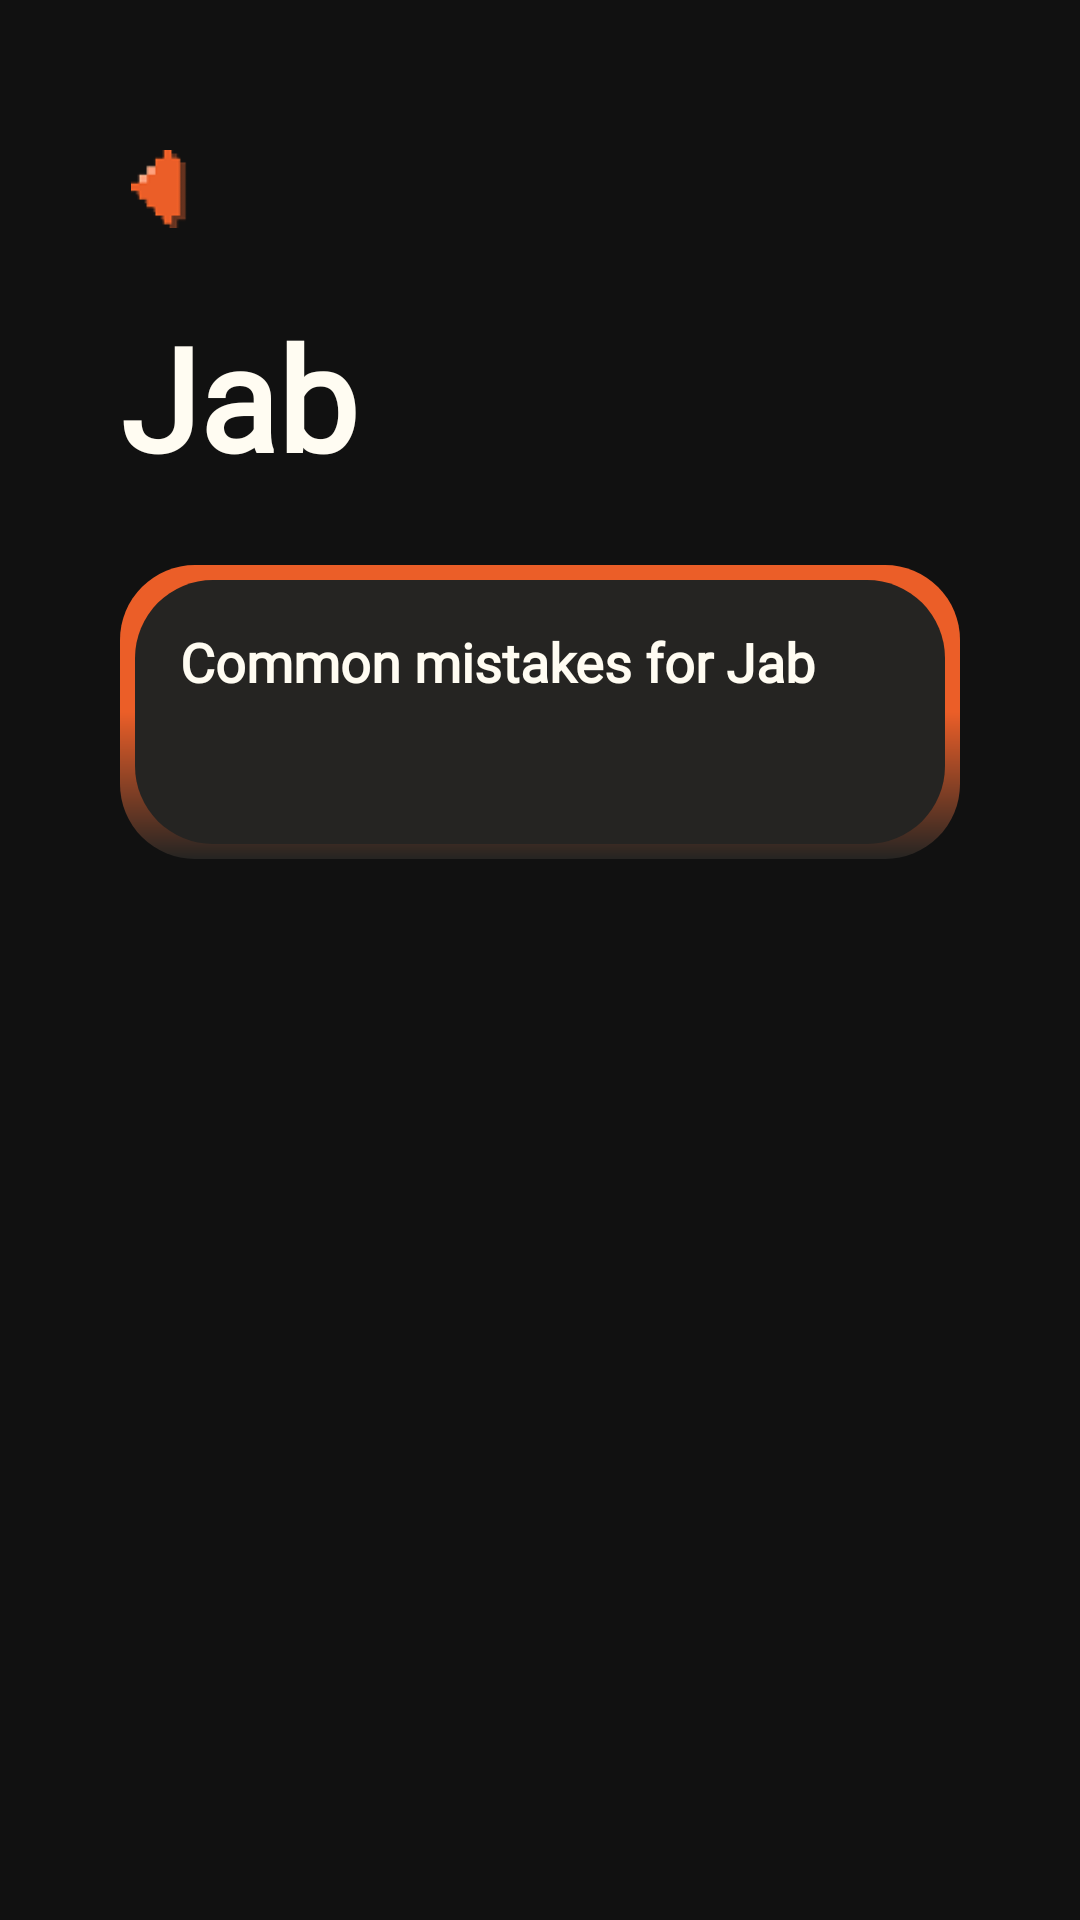

Icons on this 1080x1920 Android screen, each with its box as (x1, y1, x2, y2):
back: (131, 150, 186, 228)
